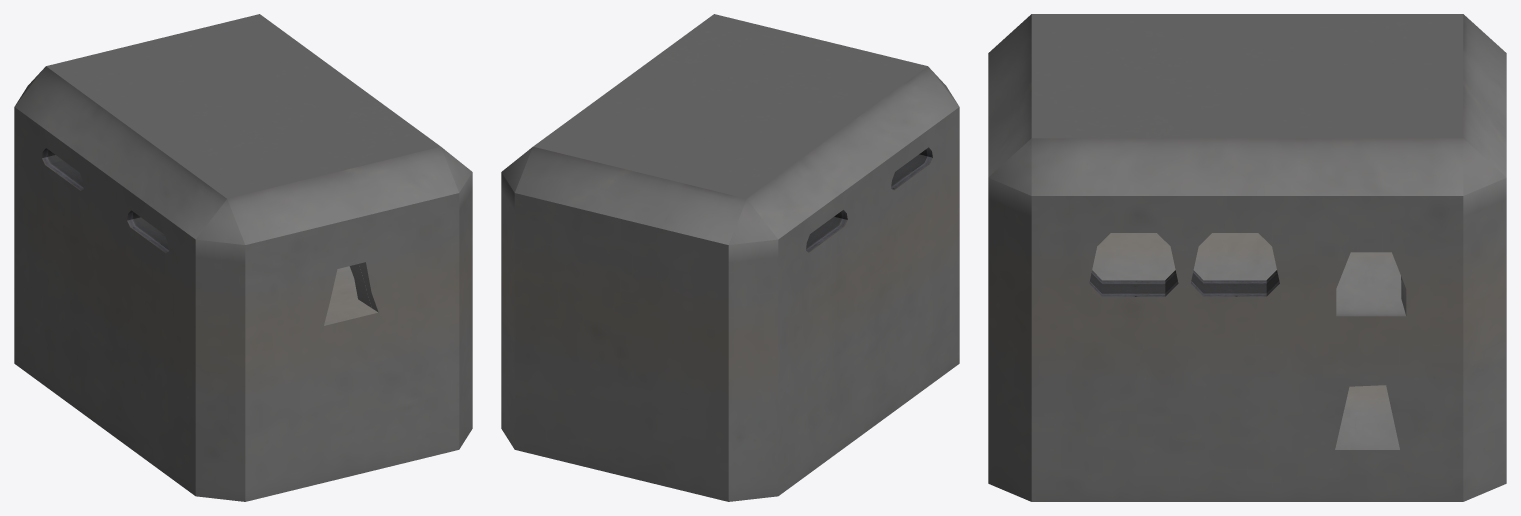
Rendered from Base_building_UV.fbx.
3 renders of one model, left to right at view 1: azimuth 30°, elevation 25°; view 2: azimuth 150°, elevation 25°; view 3: azimuth 270°, elevation 25°, orthographic. The views are drawn at different scales.
Visible parts, largest first — view 1: Base_Building; view 2: Base_Building; view 3: Base_Building.
Part boxes in pixels (bbox=[...]): Base_Building: bbox=[14, 14, 472, 501]; Base_Building: bbox=[501, 14, 959, 501]; Base_Building: bbox=[988, 14, 1506, 501].
Bounding box in the file's own units: 187 × 187 × 255.
